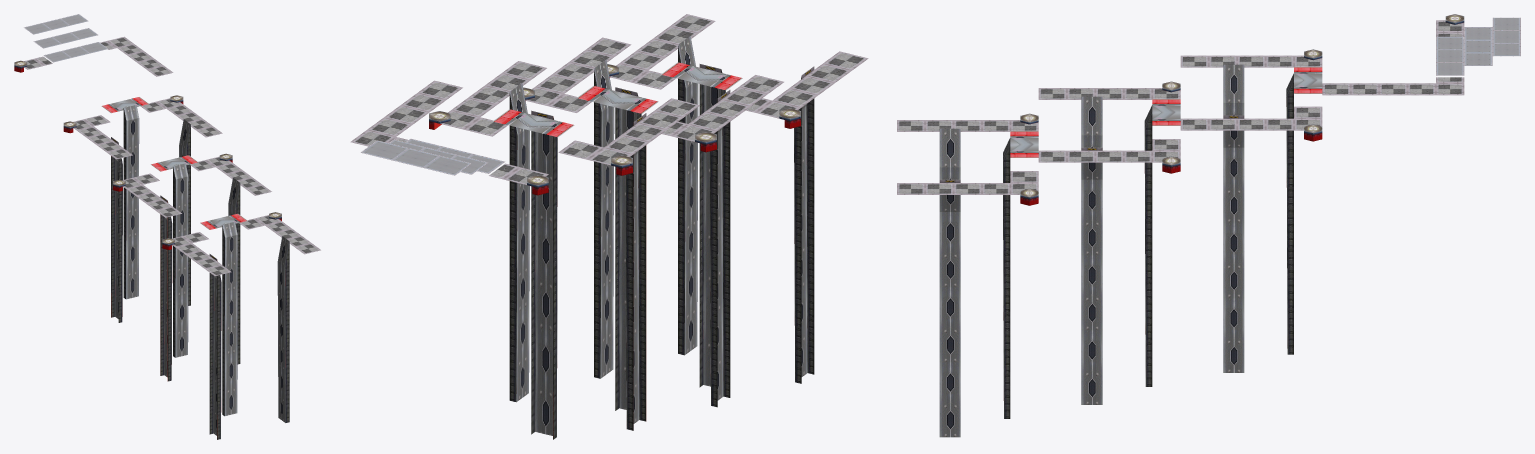
The model's file is S13_ONS_13.OBJ.
3 views of the same model, side by side, from view 1: azimuth 30°, elevation 25°; view 2: azimuth 150°, elevation 25°; view 3: azimuth 270°, elevation 25° (orthographic). The views are drawn at different scales.
Parts seen in each view (by area): view 1: s13_ons_13_5, s13_ons_13_6, s13_ons_13_9, s13_ons_13_0, s13_ons_13_8, s13_ons_13_3; view 2: s13_ons_13_5, s13_ons_13_6, s13_ons_13_9, s13_ons_13_8, s13_ons_13_0, s13_ons_13_3, s13_ons_13_2; view 3: s13_ons_13_5, s13_ons_13_9, s13_ons_13_6, s13_ons_13_0, s13_ons_13_8, s13_ons_13_3.
Boxes of the visible parts, box(x1,y1,x2,y2) form: s13_ons_13_5: box(115, 105, 289, 435); s13_ons_13_6: box(111, 108, 289, 439); s13_ons_13_9: box(24, 36, 320, 275); s13_ons_13_0: box(24, 14, 107, 62); s13_ons_13_8: box(101, 97, 247, 229); s13_ons_13_3: box(14, 60, 281, 244); s13_ons_13_5: box(509, 36, 807, 435); s13_ons_13_6: box(509, 46, 814, 439); s13_ons_13_9: box(350, 14, 868, 184); s13_ons_13_8: box(493, 62, 742, 137); s13_ons_13_0: box(360, 138, 504, 175); s13_ons_13_3: box(429, 64, 800, 185); s13_ons_13_2: box(429, 118, 800, 195); s13_ons_13_5: box(939, 64, 1293, 437); s13_ons_13_9: box(897, 20, 1464, 194); s13_ons_13_6: box(1003, 82, 1293, 418); s13_ons_13_0: box(1436, 17, 1520, 75); s13_ons_13_8: box(1010, 67, 1322, 157); s13_ons_13_3: box(1020, 14, 1464, 197).
Bounding box in the file's own units: 560 × 1175 × 1760.
10 materials, 10 textured.
